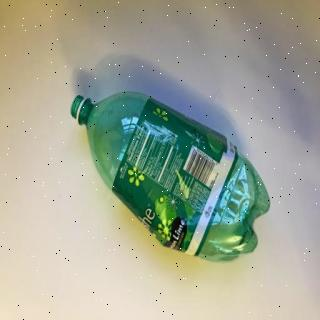Plastic-bottle: (71, 89, 273, 266)
